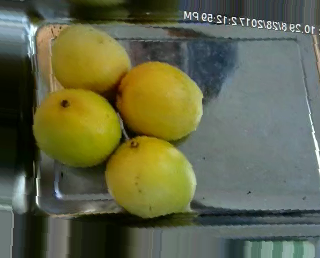Mango: (116, 59, 210, 144), (104, 138, 204, 217), (35, 88, 126, 173), (51, 22, 138, 101)
